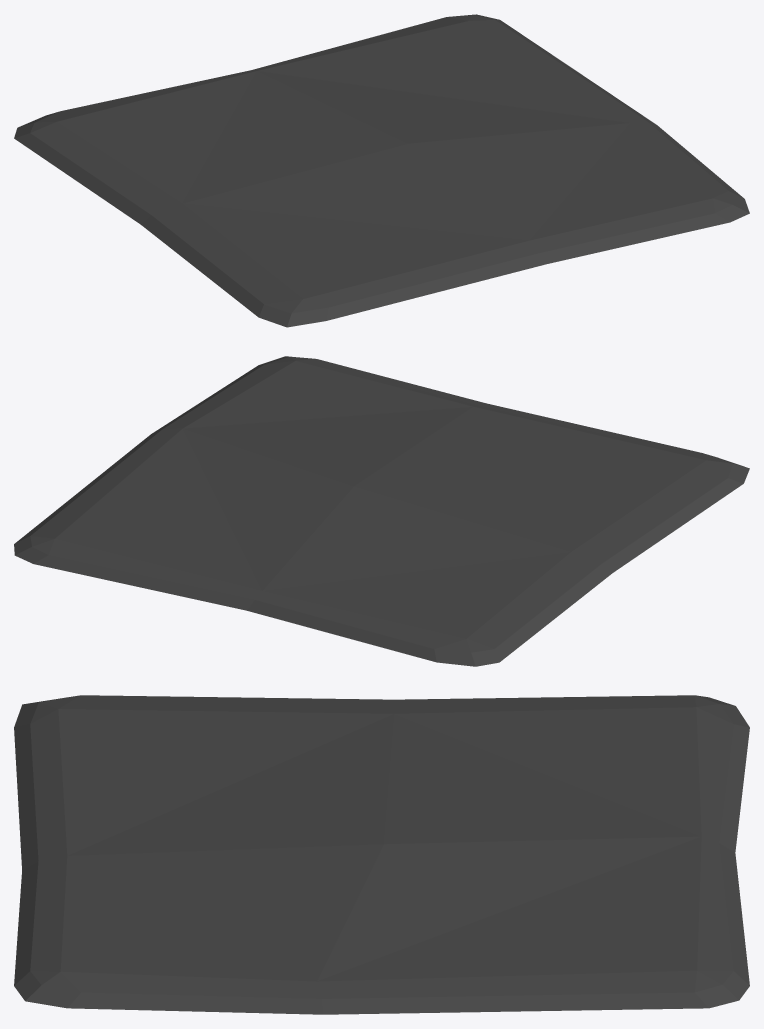
File: apoc_SM_Env_Road_Patch_01.gltf
The picture shows the model from 3 angles, top to bottom: view 1: azimuth 30°, elevation 25°; view 2: azimuth 150°, elevation 25°; view 3: azimuth 270°, elevation 25°; orthographic projection. The views are drawn at different scales.
Parts seen in each view (by area): view 1: SM_Env_Road_Patch_01; view 2: SM_Env_Road_Patch_01; view 3: SM_Env_Road_Patch_01.
Part boxes in pixels (x1=…): SM_Env_Road_Patch_01: x1=14, y1=14, x2=749, y2=327; SM_Env_Road_Patch_01: x1=14, y1=356, x2=749, y2=666; SM_Env_Road_Patch_01: x1=14, y1=695, x2=749, y2=1014.
Size of the model in its own units: 1.82 by 0.0689 by 1.79.
1 material, 1 textured.
